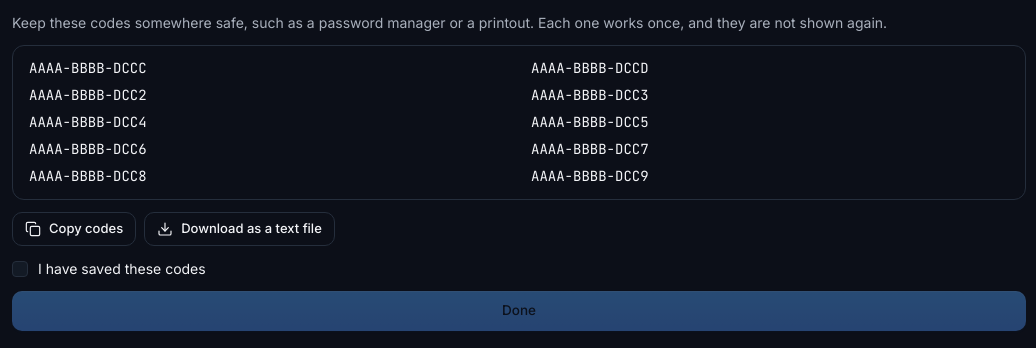
Test: the recovery codes panel › copies the codes one to a line and says so, or says nothing when the browser refuses
The width and height of the screenshot is (1036, 348).
Click the button "Copy codes".
click(74, 229)  # box x1=12 y1=212 x2=136 y2=246
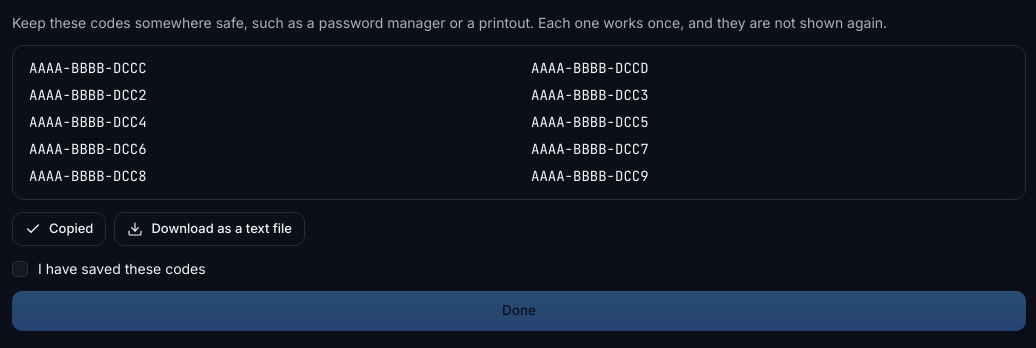
Now the button "Copied" is shown
Click the button "Copied".
click(59, 229)  # box x1=12 y1=212 x2=106 y2=246
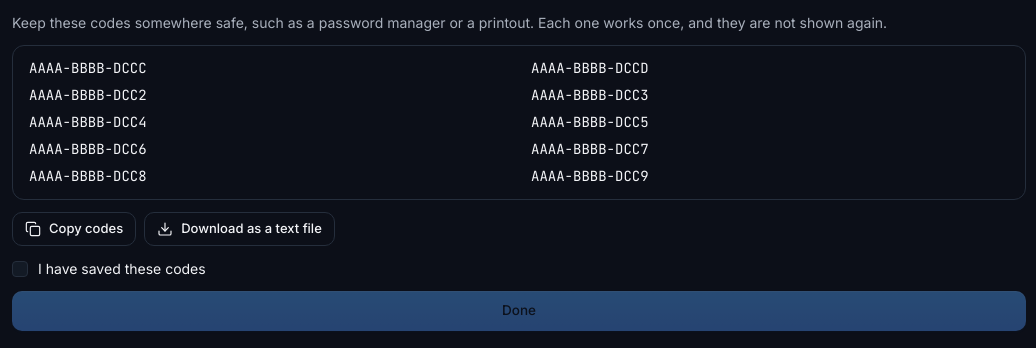
Expected: the button "Done" is shown, x1=12 y1=291 x2=1026 y2=331
Now the button "Copy codes" is shown, box x1=12 y1=212 x2=136 y2=246
